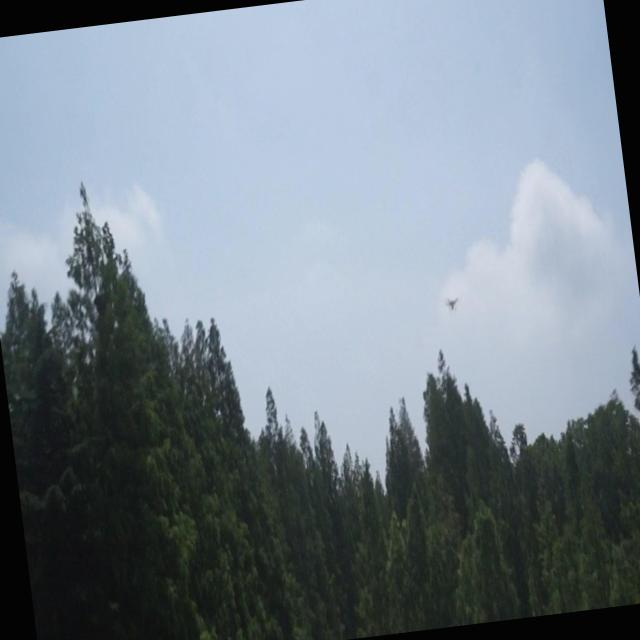drone: (442, 294, 462, 314)
